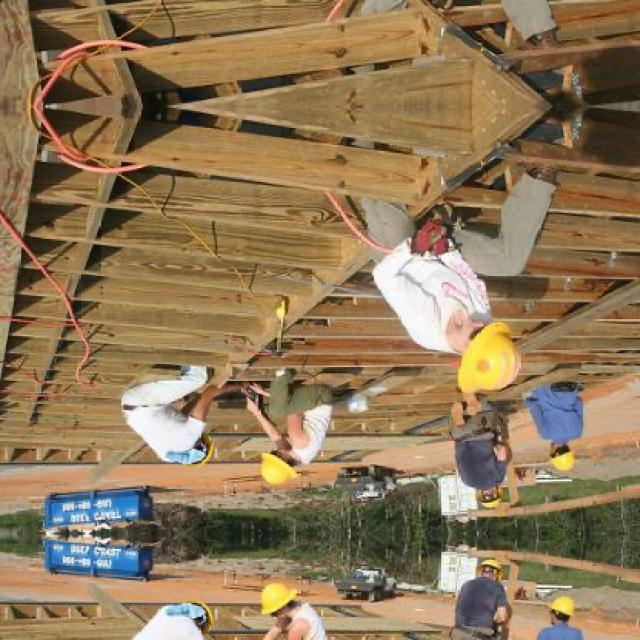con casco: (420, 292, 557, 413), (239, 574, 330, 640), (256, 430, 335, 491), (460, 479, 531, 539), (537, 434, 613, 485), (539, 584, 618, 616)
